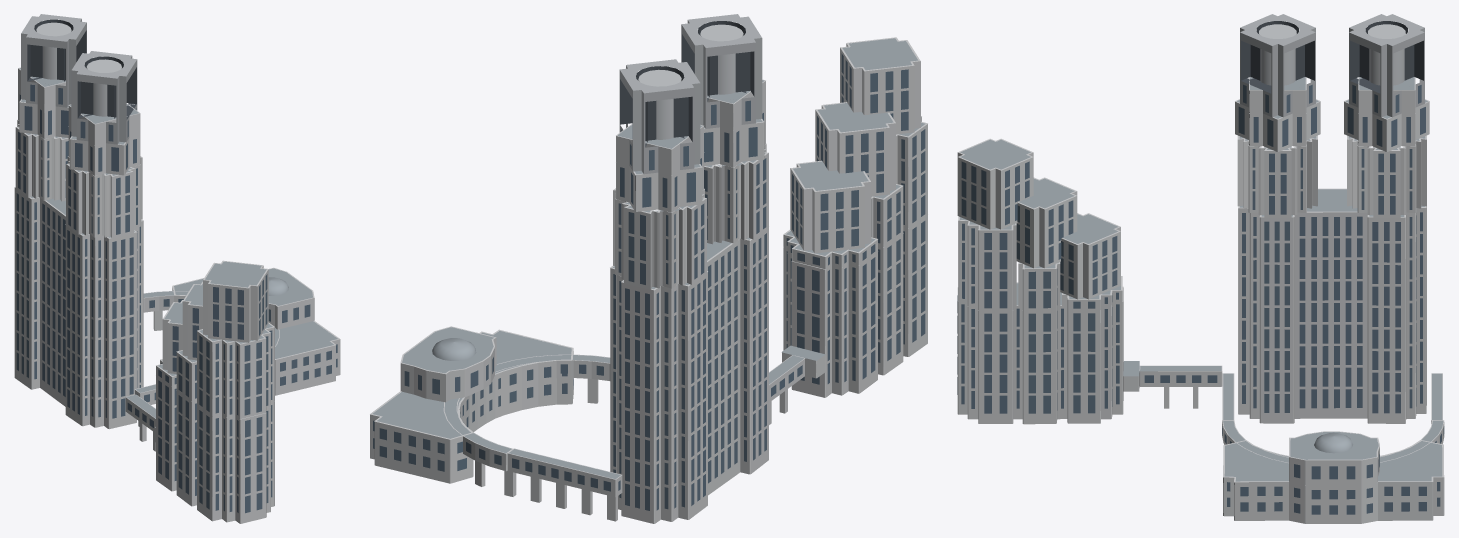
File: tokyo-metropolitan-government-building.glb
3 renders of one model, left to right at view 1: azimuth 30°, elevation 25°; view 2: azimuth 150°, elevation 25°; view 3: azimuth 270°, elevation 25°, orthographic. The views are drawn at different scales.
Parts seen in each view (by area): view 1: Tokyo Metropolitan Government Building; view 2: Tokyo Metropolitan Government Building; view 3: Tokyo Metropolitan Government Building.
Part boxes in pixels (bbox=[...]): Tokyo Metropolitan Government Building: bbox=[14, 14, 340, 523]; Tokyo Metropolitan Government Building: bbox=[370, 14, 927, 523]; Tokyo Metropolitan Government Building: bbox=[957, 14, 1444, 523].
Bounding box in the file's own units: 187 × 243 × 285.
